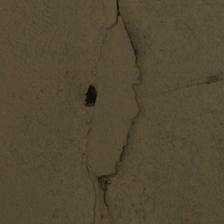Crack: (5, 66, 170, 180), (0, 0, 81, 156)
